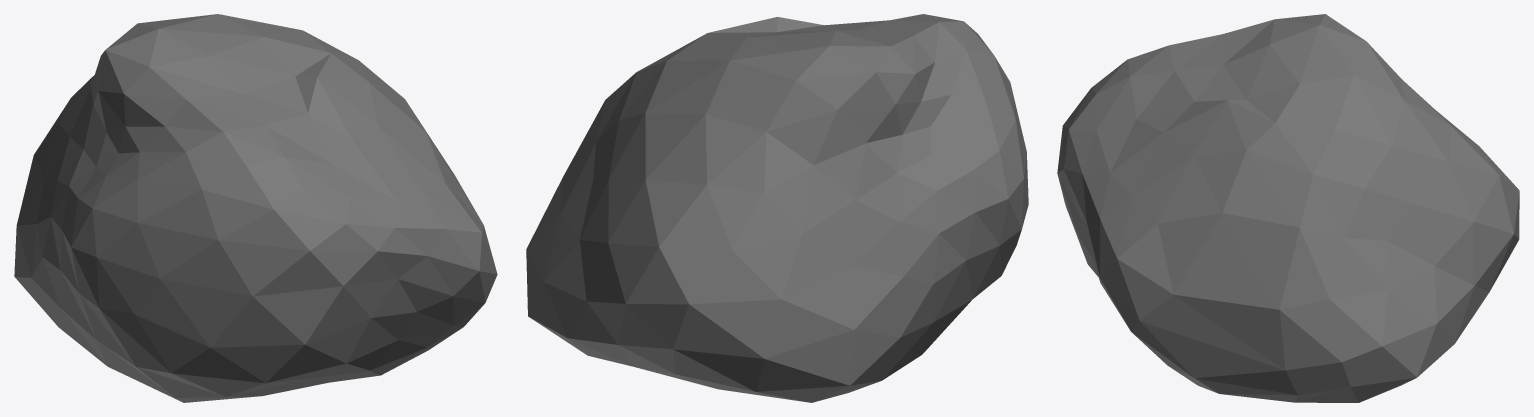
Rendered from roca1.fbx.
3 renders of one model, left to right at view 1: azimuth 30°, elevation 25°; view 2: azimuth 150°, elevation 25°; view 3: azimuth 270°, elevation 25°, orthographic. The views are drawn at different scales.
Visible parts, largest first — view 1: roca1; view 2: roca1; view 3: roca1.
Part boxes in pixels (x1=…): roca1: x1=14, y1=14, x2=497, y2=402; roca1: x1=526, y1=14, x2=1028, y2=402; roca1: x1=1057, y1=14, x2=1519, y2=402.
Size of the model in its own units: 29.31 by 23.69 by 32.93.
